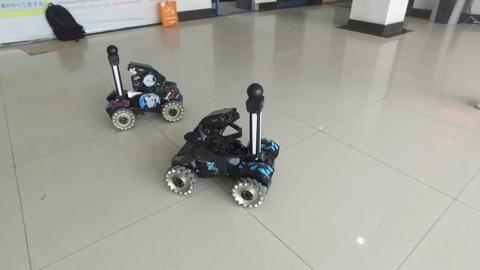bag: (41, 1, 92, 46)
chariot: (158, 79, 291, 211), (104, 43, 187, 137)
